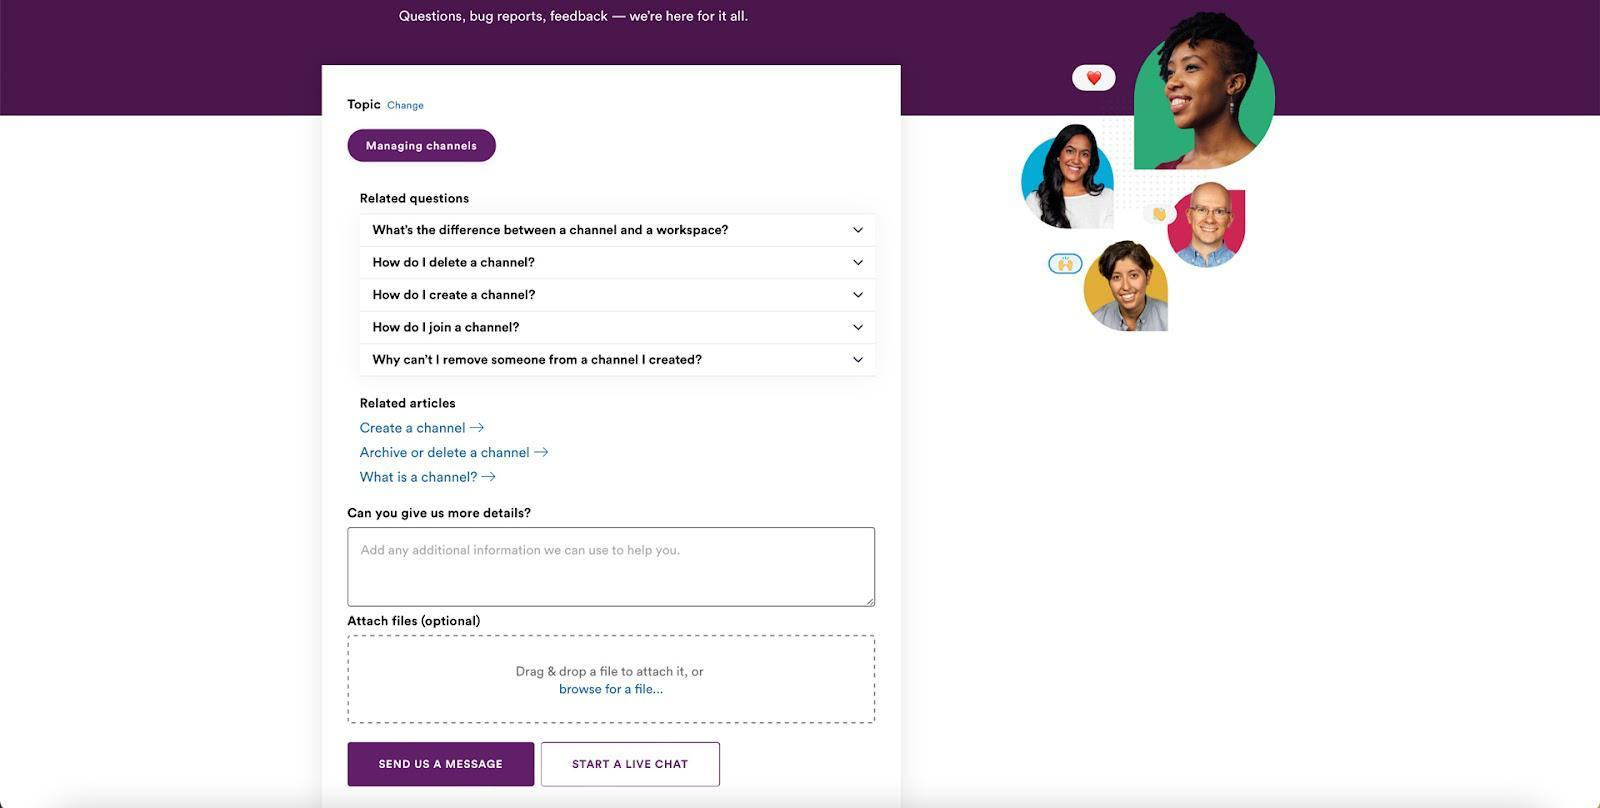button: (347, 744, 537, 788), (543, 743, 721, 788), (346, 129, 499, 164)
dropdown: (361, 246, 876, 282), (360, 344, 875, 377), (361, 216, 877, 247), (362, 313, 876, 344), (360, 282, 876, 312)
label: (349, 504, 538, 521)
